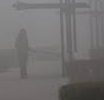person: (16, 28, 33, 80)
